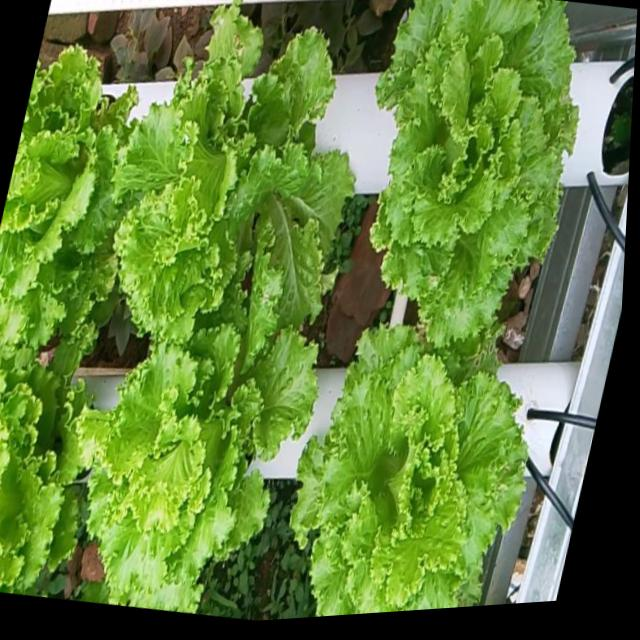Mature: (104, 0, 348, 322), (75, 290, 310, 610), (362, 0, 569, 346), (281, 317, 516, 617), (0, 29, 129, 333), (0, 337, 75, 593)
